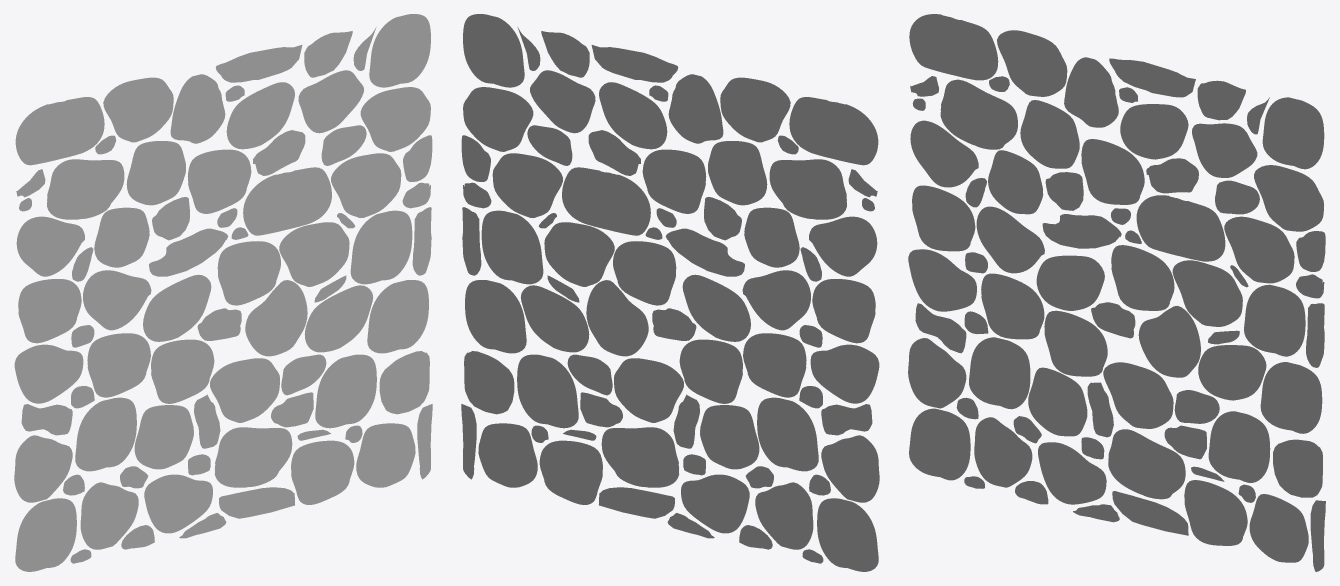
File: riverrock.gltf
3 views of the same model, side by side, from view 1: azimuth 30°, elevation 25°; view 2: azimuth 150°, elevation 25°; view 3: azimuth 330°, elevation 25° (orthographic).
Visible parts, largest first — view 1: riverock; view 2: riverock; view 3: riverock.
Part boxes in pixels (box(x1,y1,x2,y2)): riverock: box(14, 14, 432, 571); riverock: box(461, 14, 879, 571); riverock: box(908, 14, 1325, 571).
Bounding box in the file's own units: 33.12 × 35.63 × 3.11e-06.
Materials: 75 (74 with a texture image).
